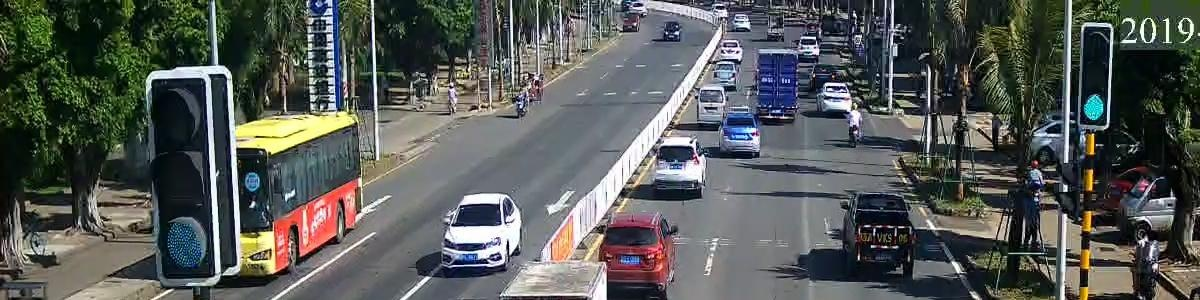green: (145, 215, 226, 273), (1065, 80, 1119, 134)
